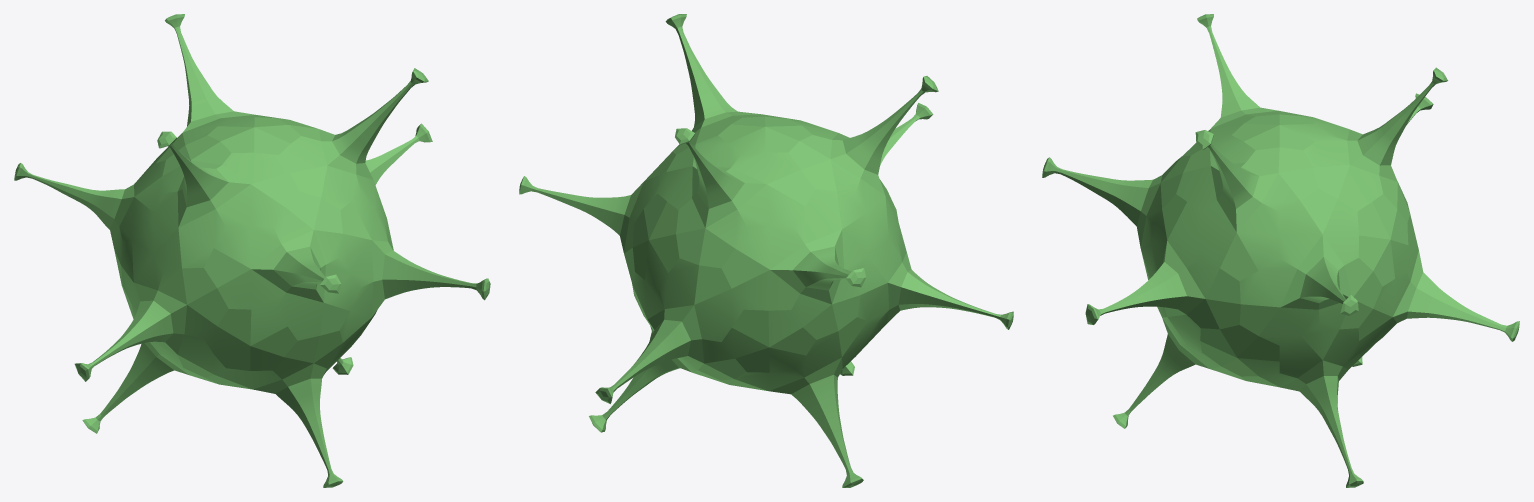
File: virus.fbx
3 renders of one model, left to right at view 1: azimuth 30°, elevation 25°; view 2: azimuth 150°, elevation 25°; view 3: azimuth 270°, elevation 25°, orthographic.
Visible parts, largest first — view 1: Sphere; view 2: Sphere; view 3: Sphere.
Boxes of the visible parts, <box> form: Sphere: <box>14,14,490,487</box>; Sphere: <box>519,14,1013,487</box>; Sphere: <box>1042,14,1519,487</box>.
Size of the model in its own units: 77.74 by 63.67 by 77.1.
